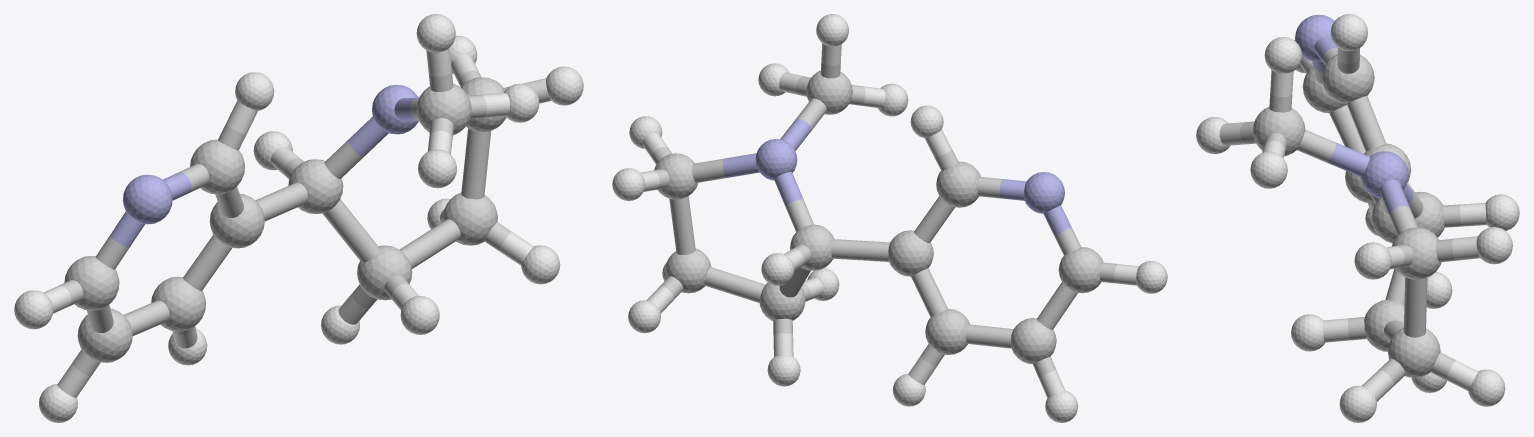
File: nicotine.fbx
The picture shows the model from 3 angles, left to right: view 1: azimuth 30°, elevation 25°; view 2: azimuth 150°, elevation 25°; view 3: azimuth 270°, elevation 25°; orthographic projection. The views are drawn at different scales.
Visible parts, largest first — view 1: nicotine; view 2: nicotine; view 3: nicotine.
Part boxes in pixels (x1,y1,x2,y2): nicotine: [14, 14, 583, 422]; nicotine: [612, 14, 1167, 422]; nicotine: [1196, 14, 1519, 422].
Bounding box in the file's own units: 8903 × 5373 × 4360.
